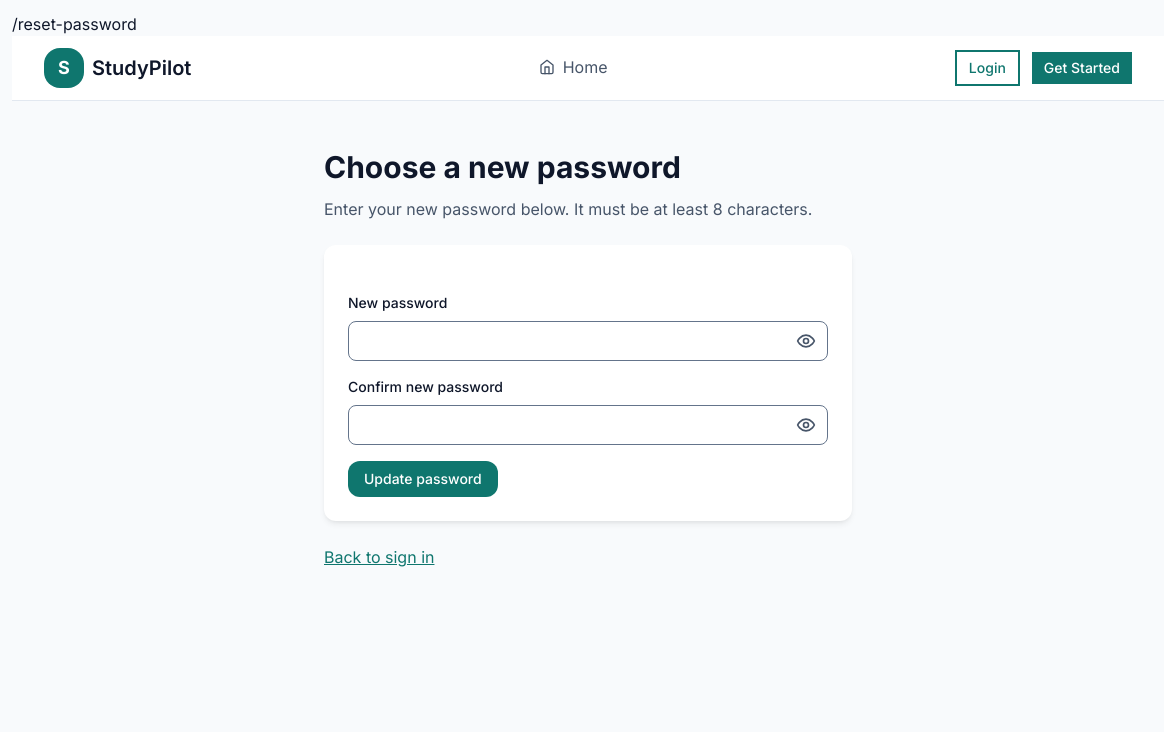
Test: ResetPasswordPage › shows the uniform invalid-link message and offers a new request on 400 (a string message)
The width and height of the screenshot is (1164, 732).
Type "NewPassword1!" into the password field labelled "New password" at [588, 341], box [348, 321, 828, 361]
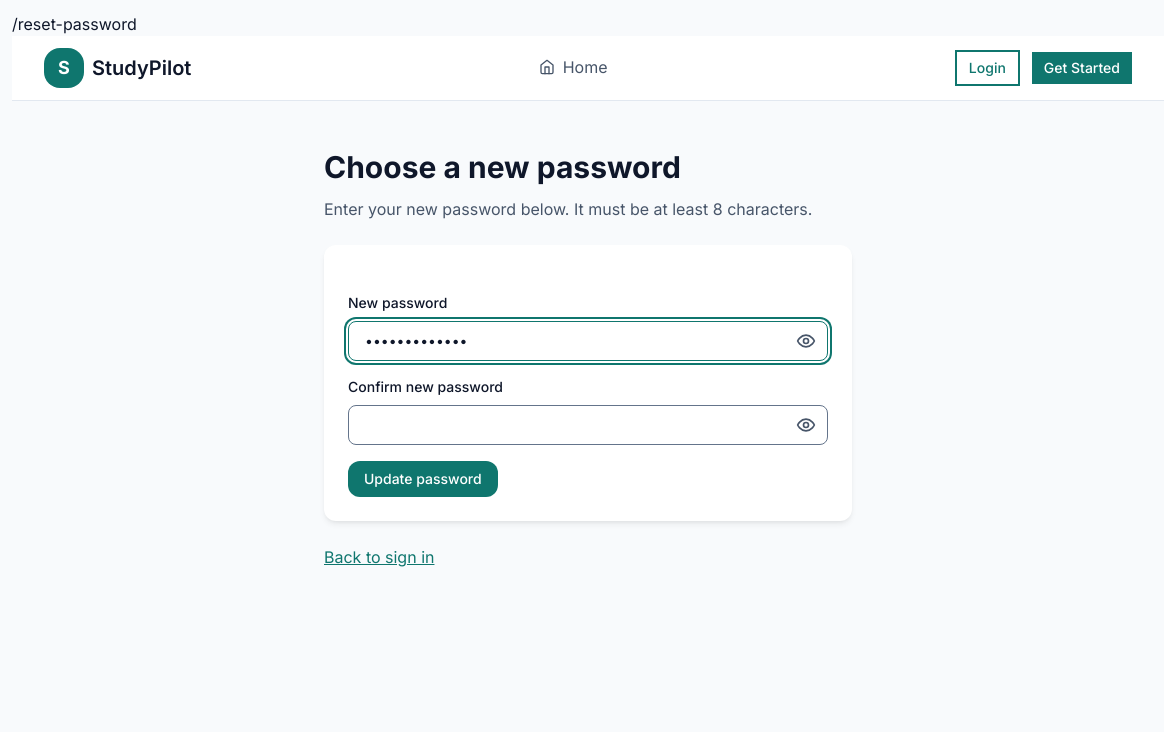
Type "NewPassword1!" into the password field labelled "Confirm new password" at [588, 425], box [348, 405, 828, 445]
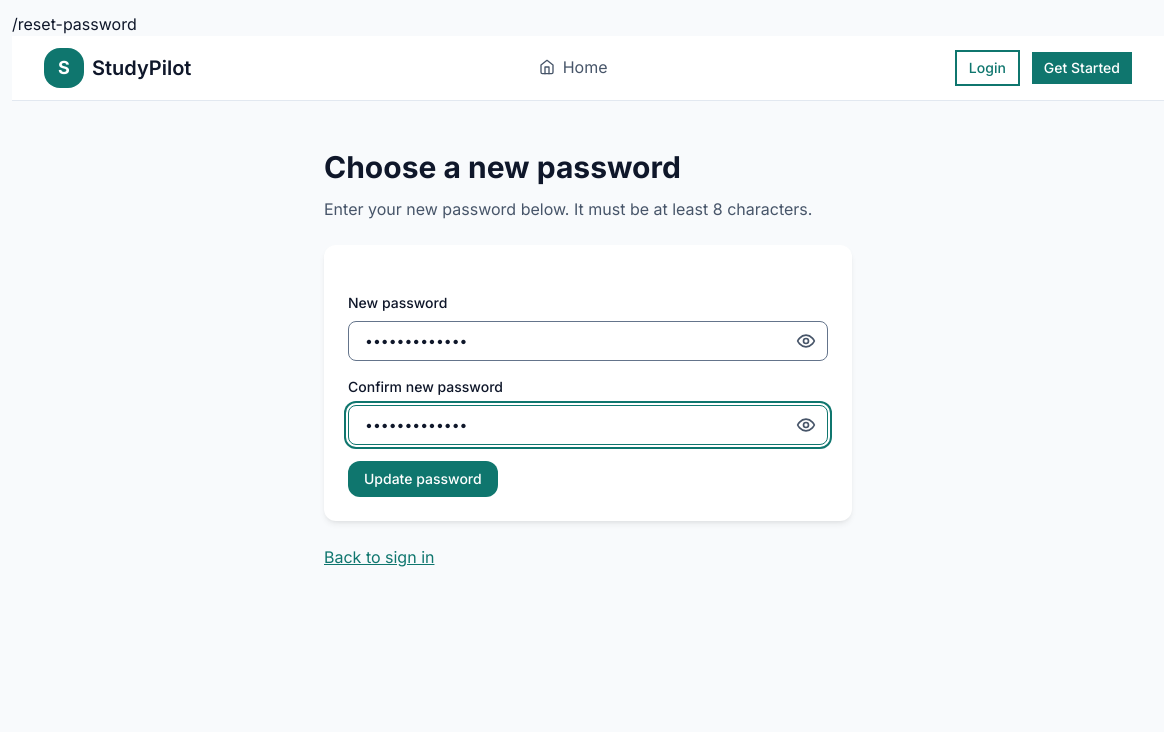
Click the button "Update password" at [423, 479], box [348, 461, 498, 497]
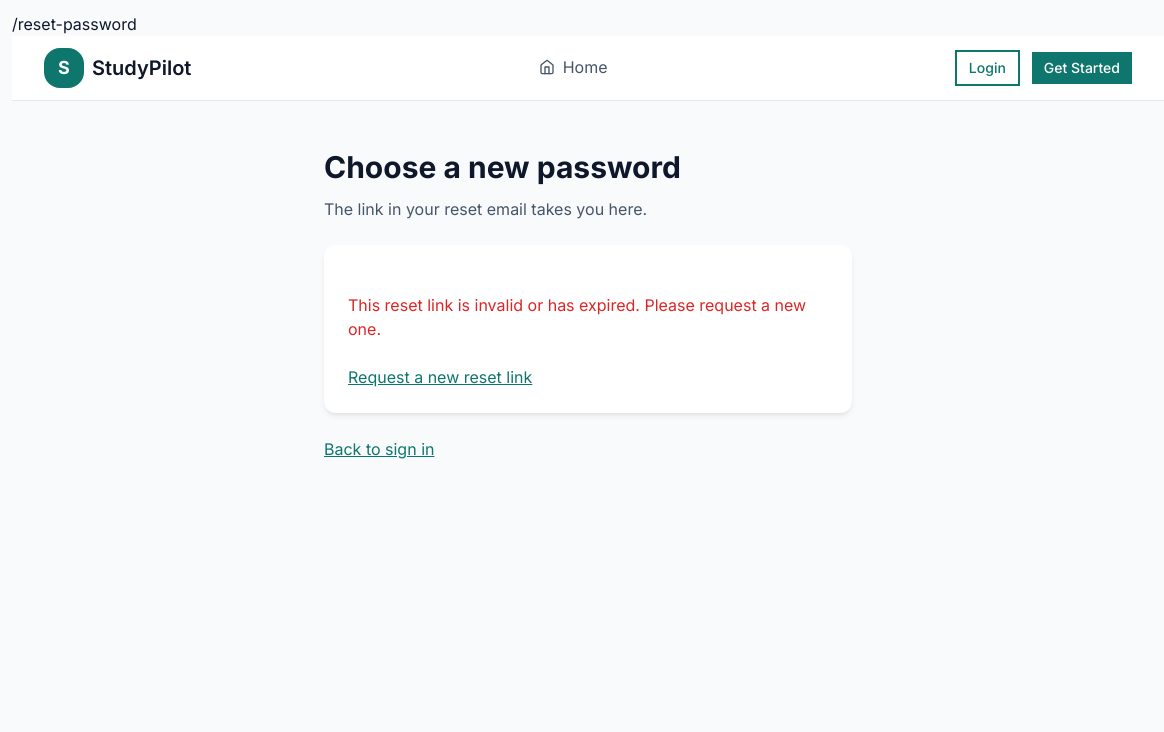
Expected: the message reads "This reset link is invalid or has expired. Please request a new one.", [348, 295, 806, 339]
Expected: the link "Request a new reset link" is shown, [348, 365, 532, 389]
